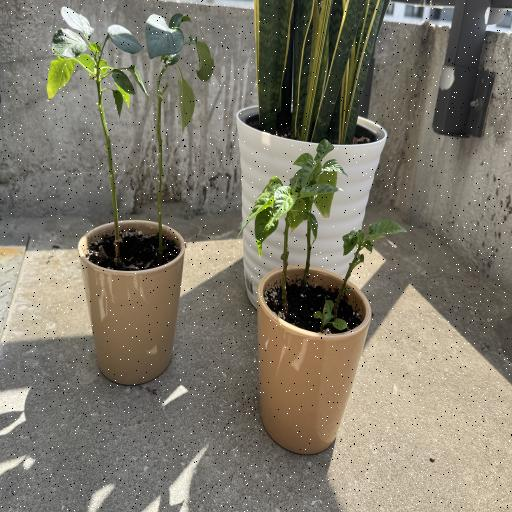Plant Pot: (236, 109, 386, 310), (256, 265, 370, 457), (78, 218, 185, 384)
